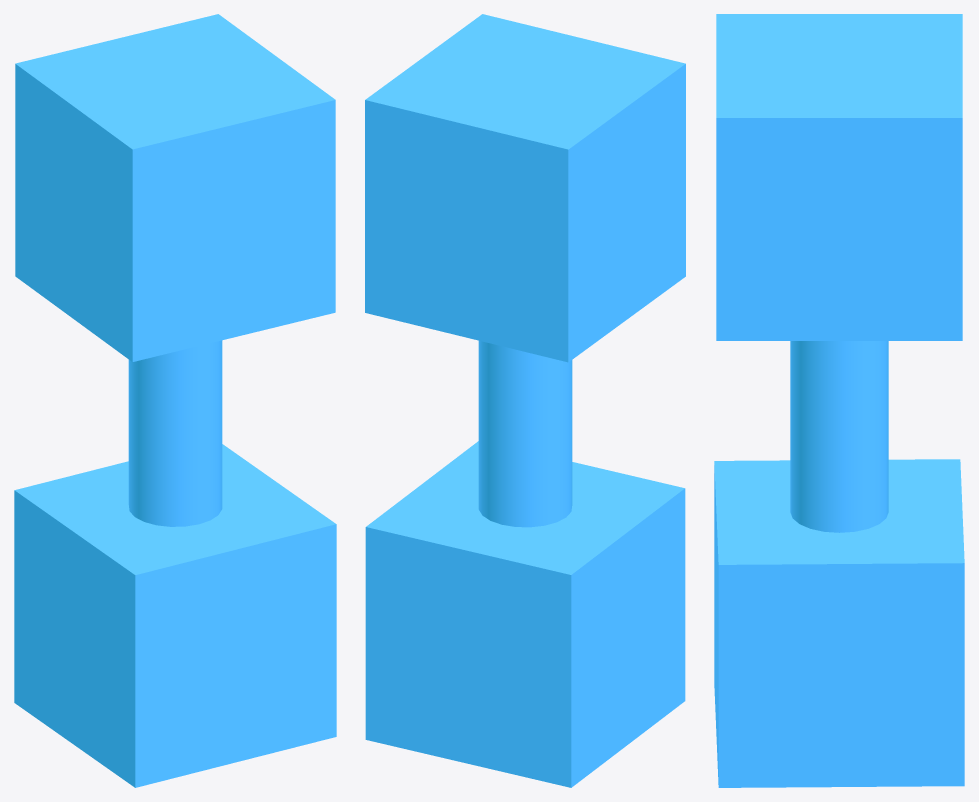
Rendered from robot_dumbbell_blue.dae.
3 renders of one model, left to right at view 1: azimuth 30°, elevation 25°; view 2: azimuth 150°, elevation 25°; view 3: azimuth 270°, elevation 25°, orthographic. The views are drawn at different scales.
Visible parts, largest first — view 1: dumbell; view 2: dumbell; view 3: dumbell.
Boxes of the visible parts, left/top/right/bottom form: dumbell: left=14, top=14, right=336, bottom=787; dumbell: left=365, top=14, right=685, bottom=787; dumbell: left=714, top=14, right=964, bottom=787.
Bounding box in the file's own units: 5.09 × 15 × 5.09.
